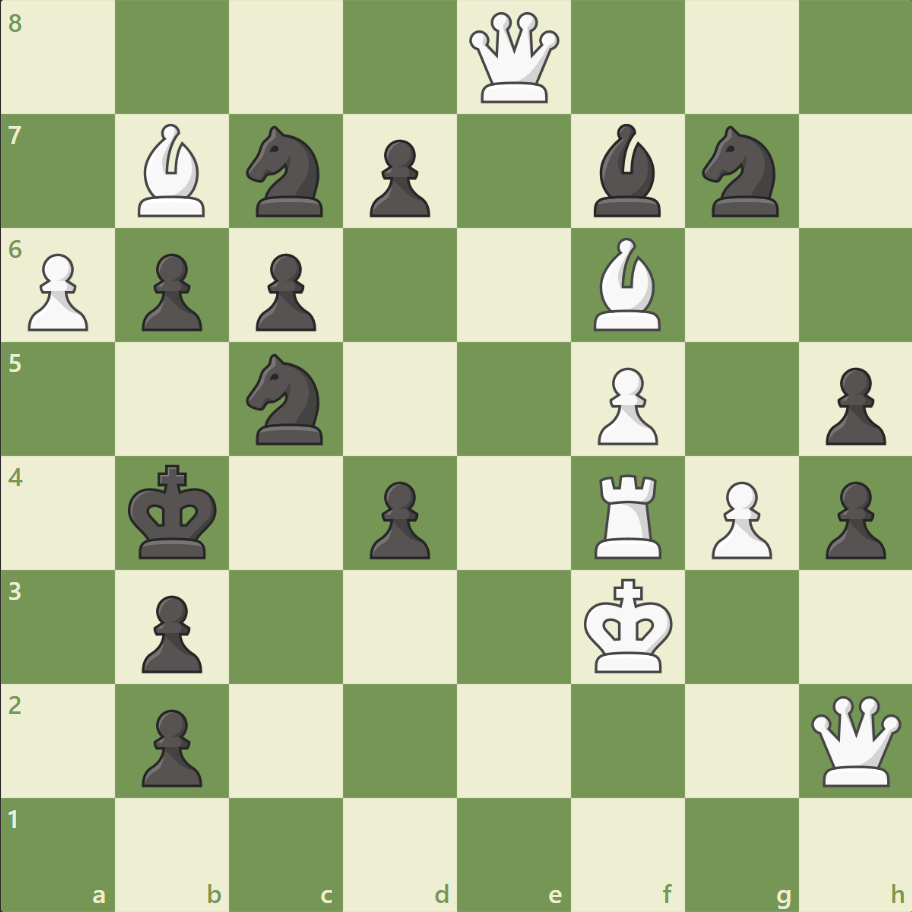B: (585, 233, 669, 336), (131, 120, 215, 222)
K: (579, 571, 679, 679)
P: (20, 246, 95, 337), (701, 473, 776, 564), (588, 359, 662, 450)
Q: (464, 9, 563, 108), (805, 690, 904, 789)
R: (587, 466, 670, 563)
b: (585, 120, 669, 222)
k: (124, 458, 224, 566)
n: (238, 121, 335, 223), (692, 121, 789, 223), (238, 348, 335, 450)
p: (133, 246, 208, 337), (247, 246, 322, 337), (133, 586, 208, 677), (133, 700, 208, 791), (361, 132, 435, 223), (815, 359, 889, 450), (361, 473, 435, 564), (815, 473, 889, 564)
